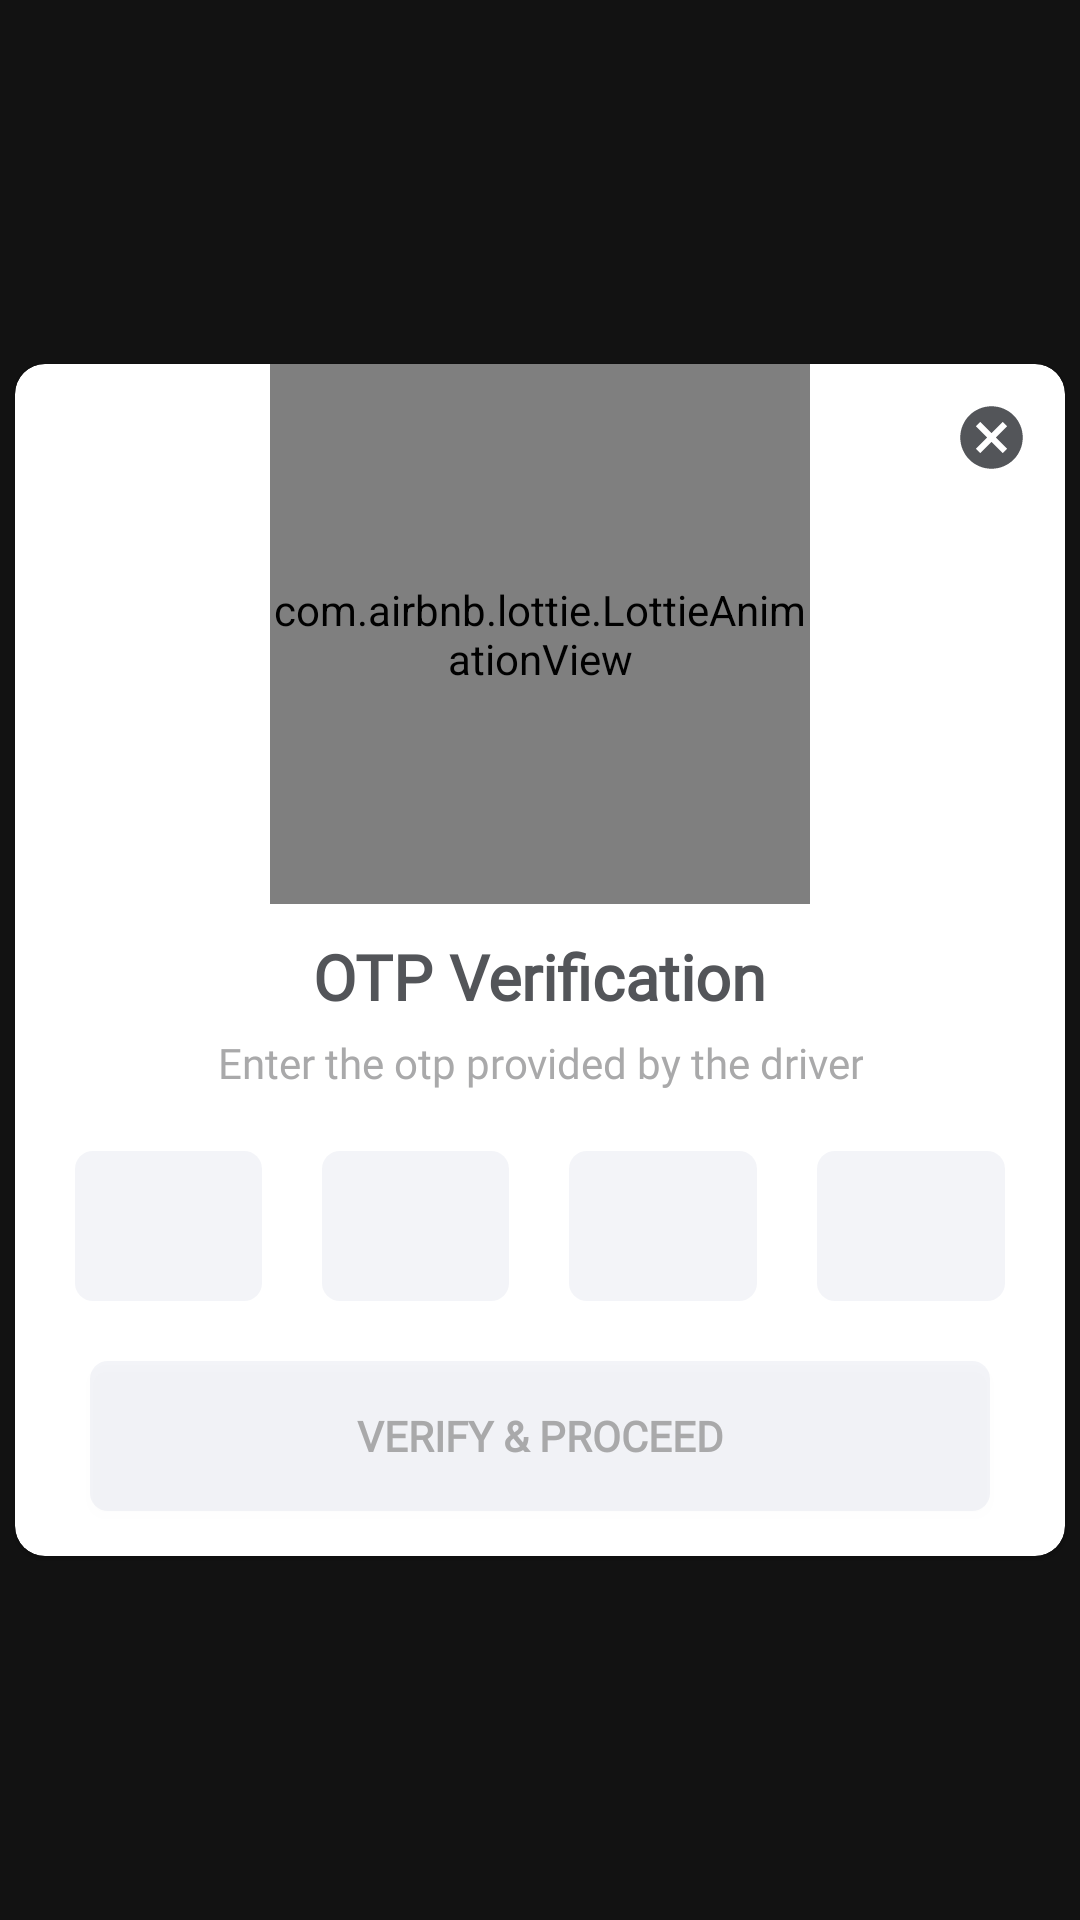

Icons on this 1080*1920 Android screen, each with its box as [left=x1, top=y1, right=x2, bottom=y2]:
cancel: [left=960, top=406, right=1023, bottom=469]
